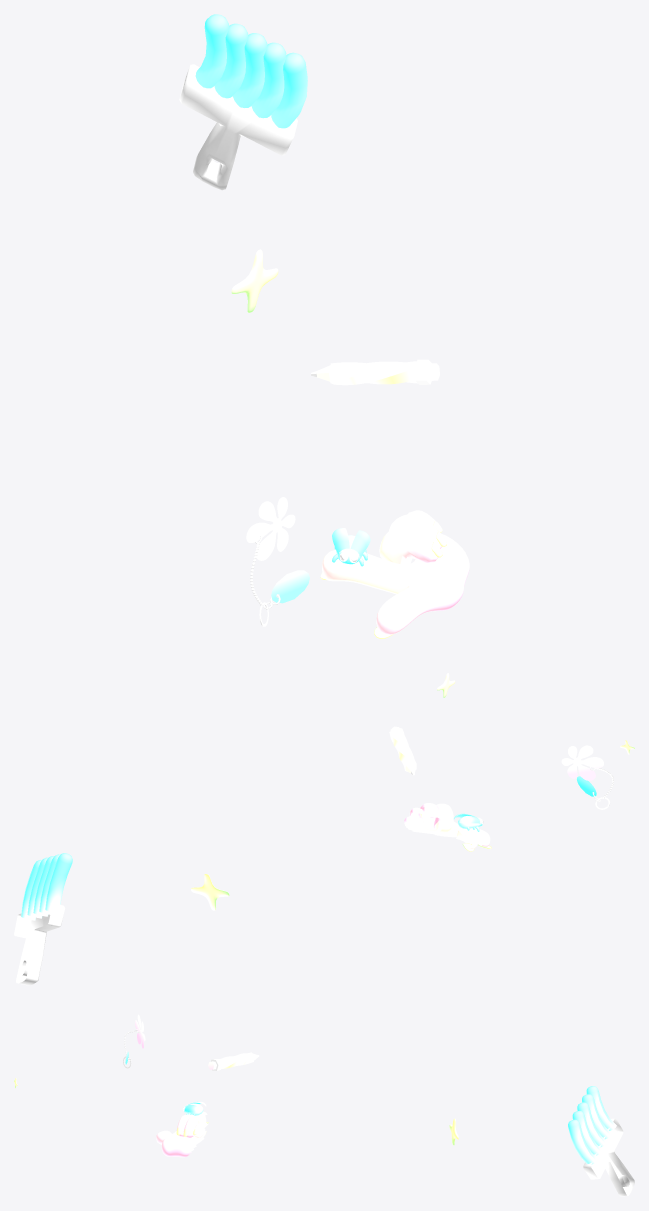
Rendered from hero-scene 2.glb.
The picture shows the model from 3 angles, top to bottom: view 1: azimuth 30°, elevation 25°; view 2: azimuth 150°, elevation 25°; view 3: azimuth 270°, elevation 25°; orthographic projection. The views are drawn at different scales.
Parts seen in each view (by area): view 1: hand, brush-handle, pencil, Cylinder.001, finger-1.001, flower, Cylinder.002, Cylinder.005, Cylinder.004, Cylinder.003, star-2; view 2: brush-handle, hand, flower, Cylinder.002, pencil, star-2, finger-2.001, finger-1.001, Cylinder.001, Cylinder.005, Cylinder.004, Cylinder.003; view 3: brush-handle, hand, Cylinder.001, pencil, Cylinder.005, Cylinder.002, Cylinder.003, Cylinder.004.
Part boxes in pixels (x1,y1,x2,y2): hand: (322,534,469,634); brush-handle: (179,64,297,190); pencil: (311,359,439,385); Cylinder.001: (271,52,307,128); finger-1.001: (379,525,437,564); flower: (246,497,295,560); Cylinder.002: (195,14,229,88); Cylinder.005: (251,42,286,118); Cylinder.004: (233,33,267,107); Cylinder.003: (214,23,248,98); star-2: (231,249,278,312); brush-handle: (14,903,65,985); hand: (404,816,490,849); flower: (561,745,603,780); Cylinder.002: (45,853,72,911); pencil: (389,726,416,775); star-2: (191,874,229,910); finger-2.001: (418,803,439,832); finger-1.001: (430,803,453,833); Cylinder.001: (21,860,41,920); Cylinder.005: (27,857,47,918); Cylinder.004: (33,856,54,916); Cylinder.003: (39,854,59,914); brush-handle: (583,1118,634,1196); hand: (156,1111,207,1157); Cylinder.001: (568,1119,598,1164); pencil: (208,1052,259,1070); Cylinder.005: (572,1111,602,1155); Cylinder.002: (586,1086,616,1130); Cylinder.003: (582,1094,611,1139); Cylinder.004: (577,1102,607,1147).
Size of the model in its own units: 1.75 by 0.7875 by 3.67.
